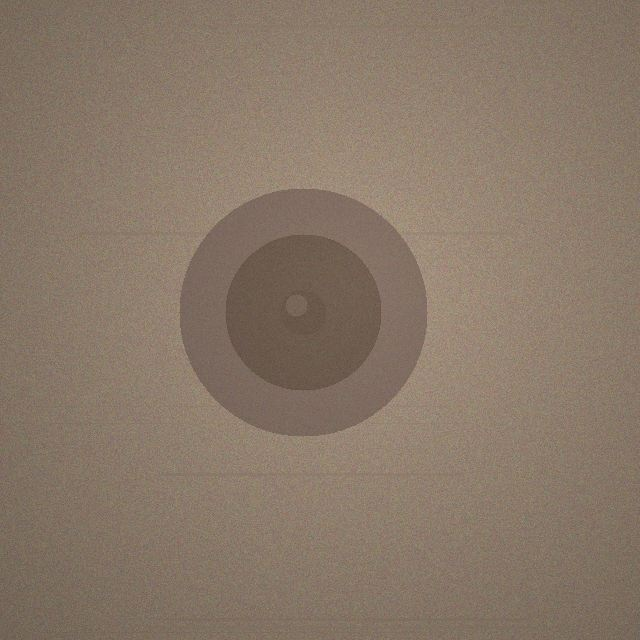good: (179, 188, 427, 436)
